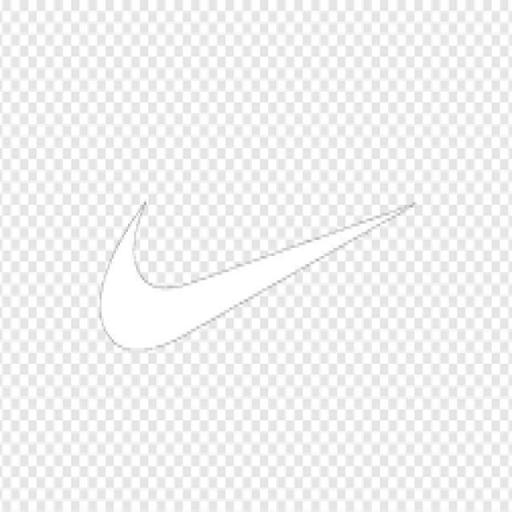Nike: (90, 178, 428, 353)
